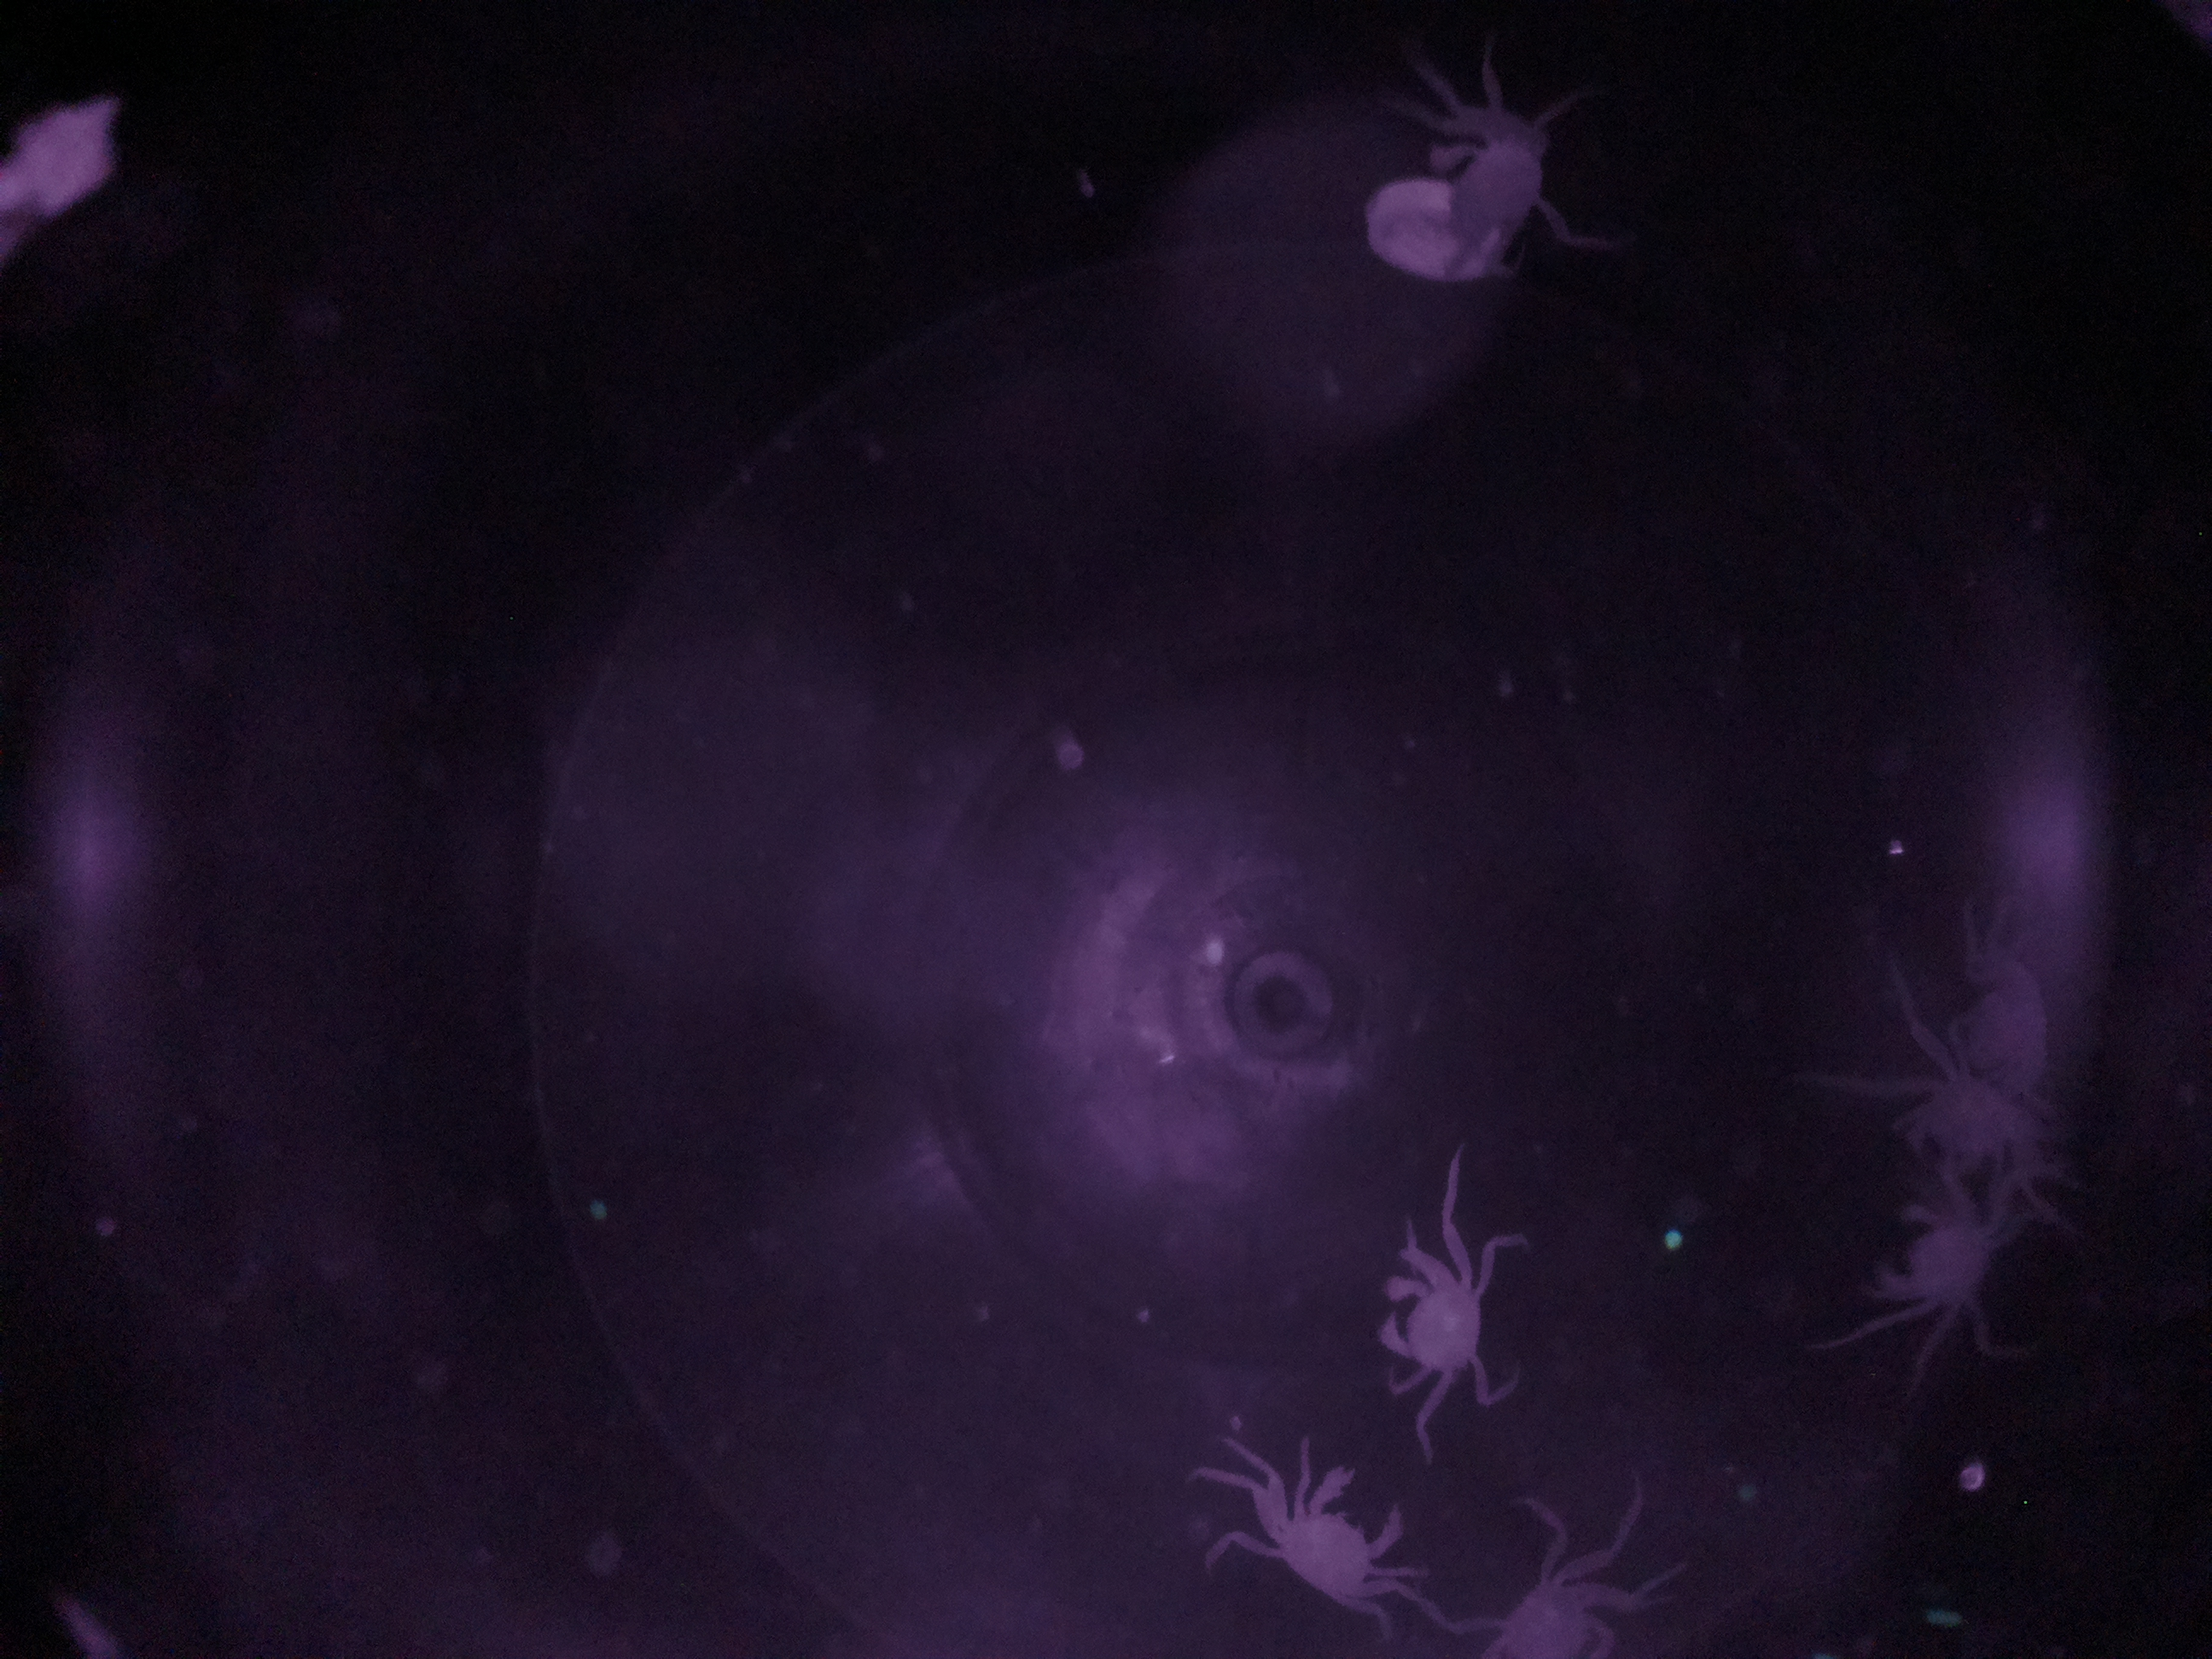Crab: (1245, 1431, 1416, 1649), (1364, 1223, 1503, 1427)
